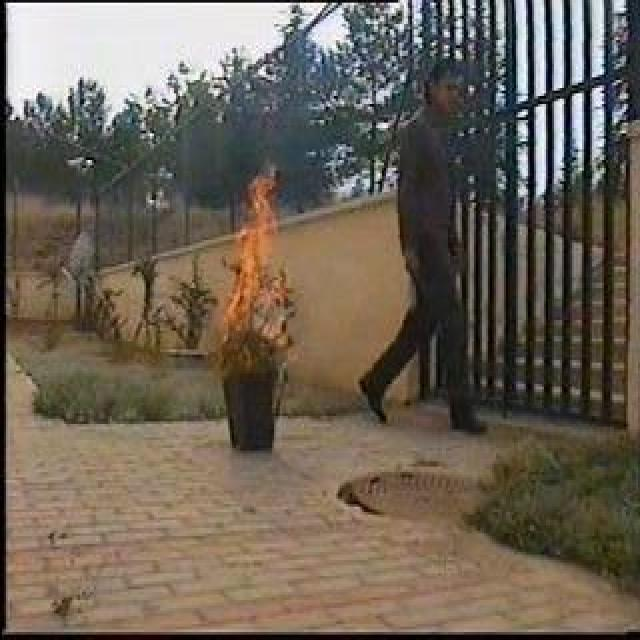fire: (223, 168, 276, 342)
